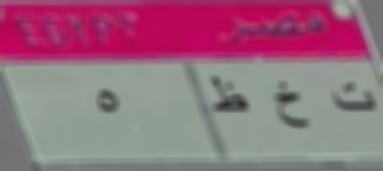5: (85, 84, 129, 123)
Thaa: (206, 71, 251, 116)
khaa: (266, 77, 312, 136)
taa: (326, 76, 378, 122)
